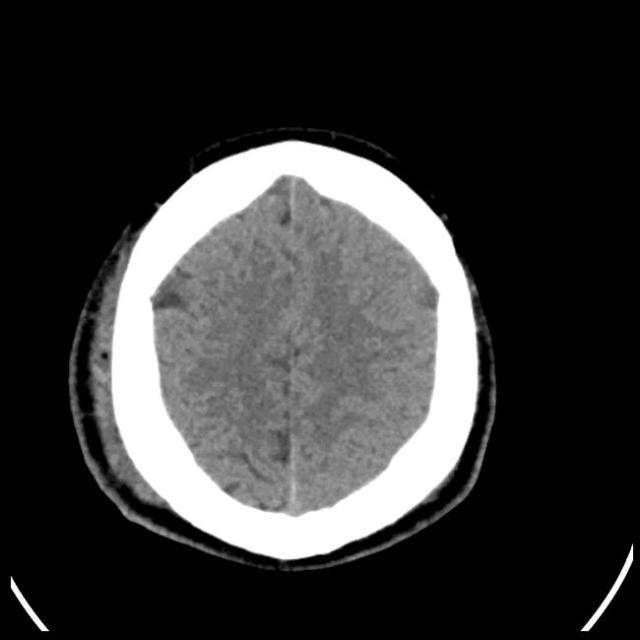lesion: (68, 126, 499, 572)
